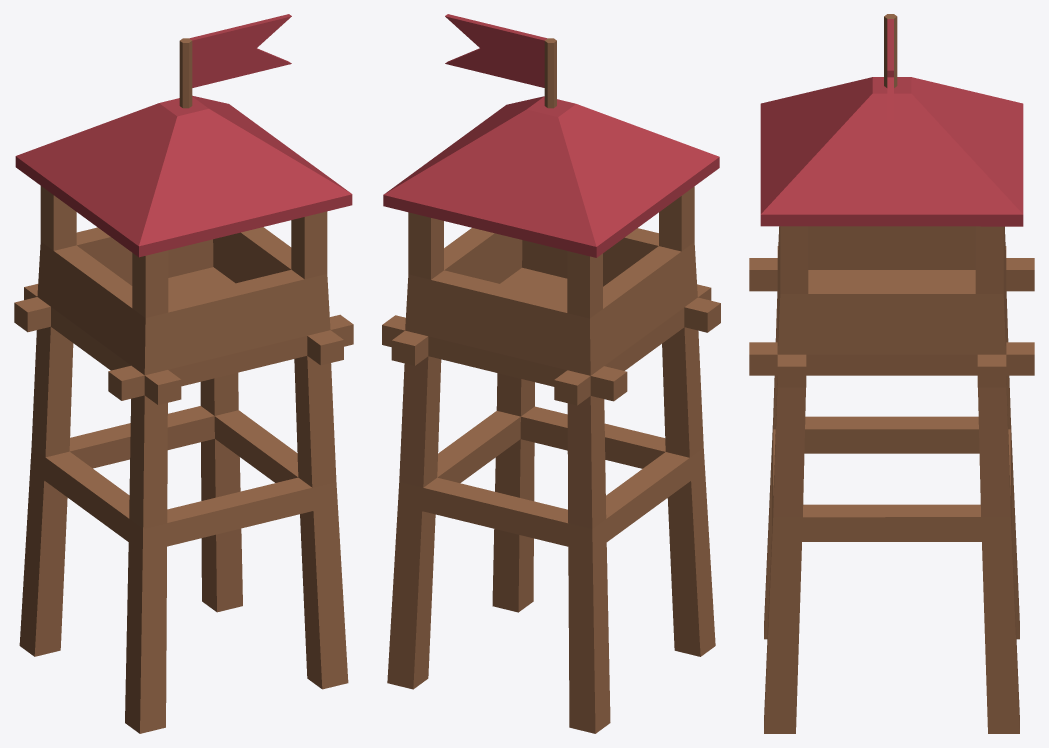
The model's file is Tower1.glb.
3 views of the same model, side by side, from view 1: azimuth 30°, elevation 25°; view 2: azimuth 150°, elevation 25°; view 3: azimuth 270°, elevation 25° (orthographic). The views are drawn at different scales.
Parts seen in each view (by area): view 1: Cube.022; view 2: Cube.022; view 3: Cube.022.
Part boxes in pixels (box(x1,y1,x2,y2)): Cube.022: box(14, 14, 353, 733); Cube.022: box(382, 14, 720, 733); Cube.022: box(749, 14, 1034, 733).
Size of the model in its own units: 1.49 by 3.84 by 1.49.
